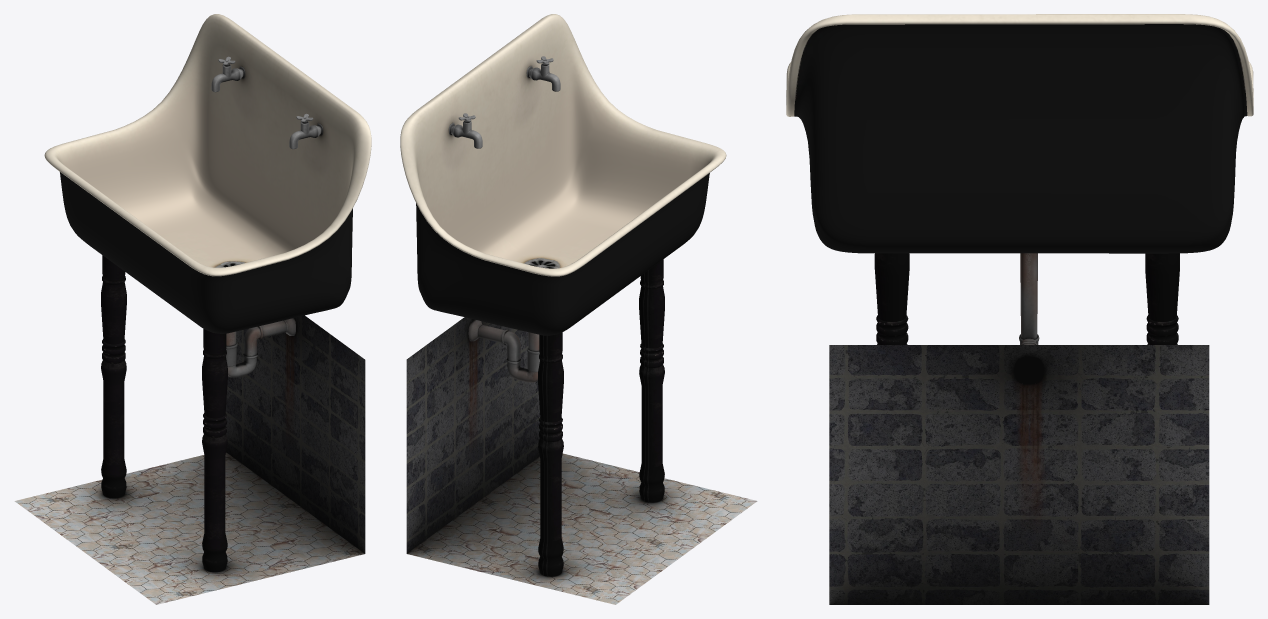
The model's file is sink.glb.
The picture shows the model from 3 angles, left to right: view 1: azimuth 30°, elevation 25°; view 2: azimuth 150°, elevation 25°; view 3: azimuth 270°, elevation 25°; orthographic projection. The views are drawn at different scales.
Visible parts, largest first — view 1: Object_4, Object_2, Object_3; view 2: Object_4, Object_2, Object_3; view 3: Object_4, Object_2.
Boxes of the visible parts, box(x1,y1,x2,y2) form: Object_4: box(44, 14, 371, 572); Object_2: box(14, 315, 365, 604); Object_3: box(211, 56, 323, 149); Object_4: box(400, 14, 726, 576); Object_2: box(406, 317, 757, 604); Object_3: box(449, 56, 560, 148); Object_4: box(786, 14, 1253, 344); Object_2: box(829, 345, 1209, 604).
Bounding box in the file's own units: 58.44 × 117 × 84.46.
2 materials, 2 textured.
